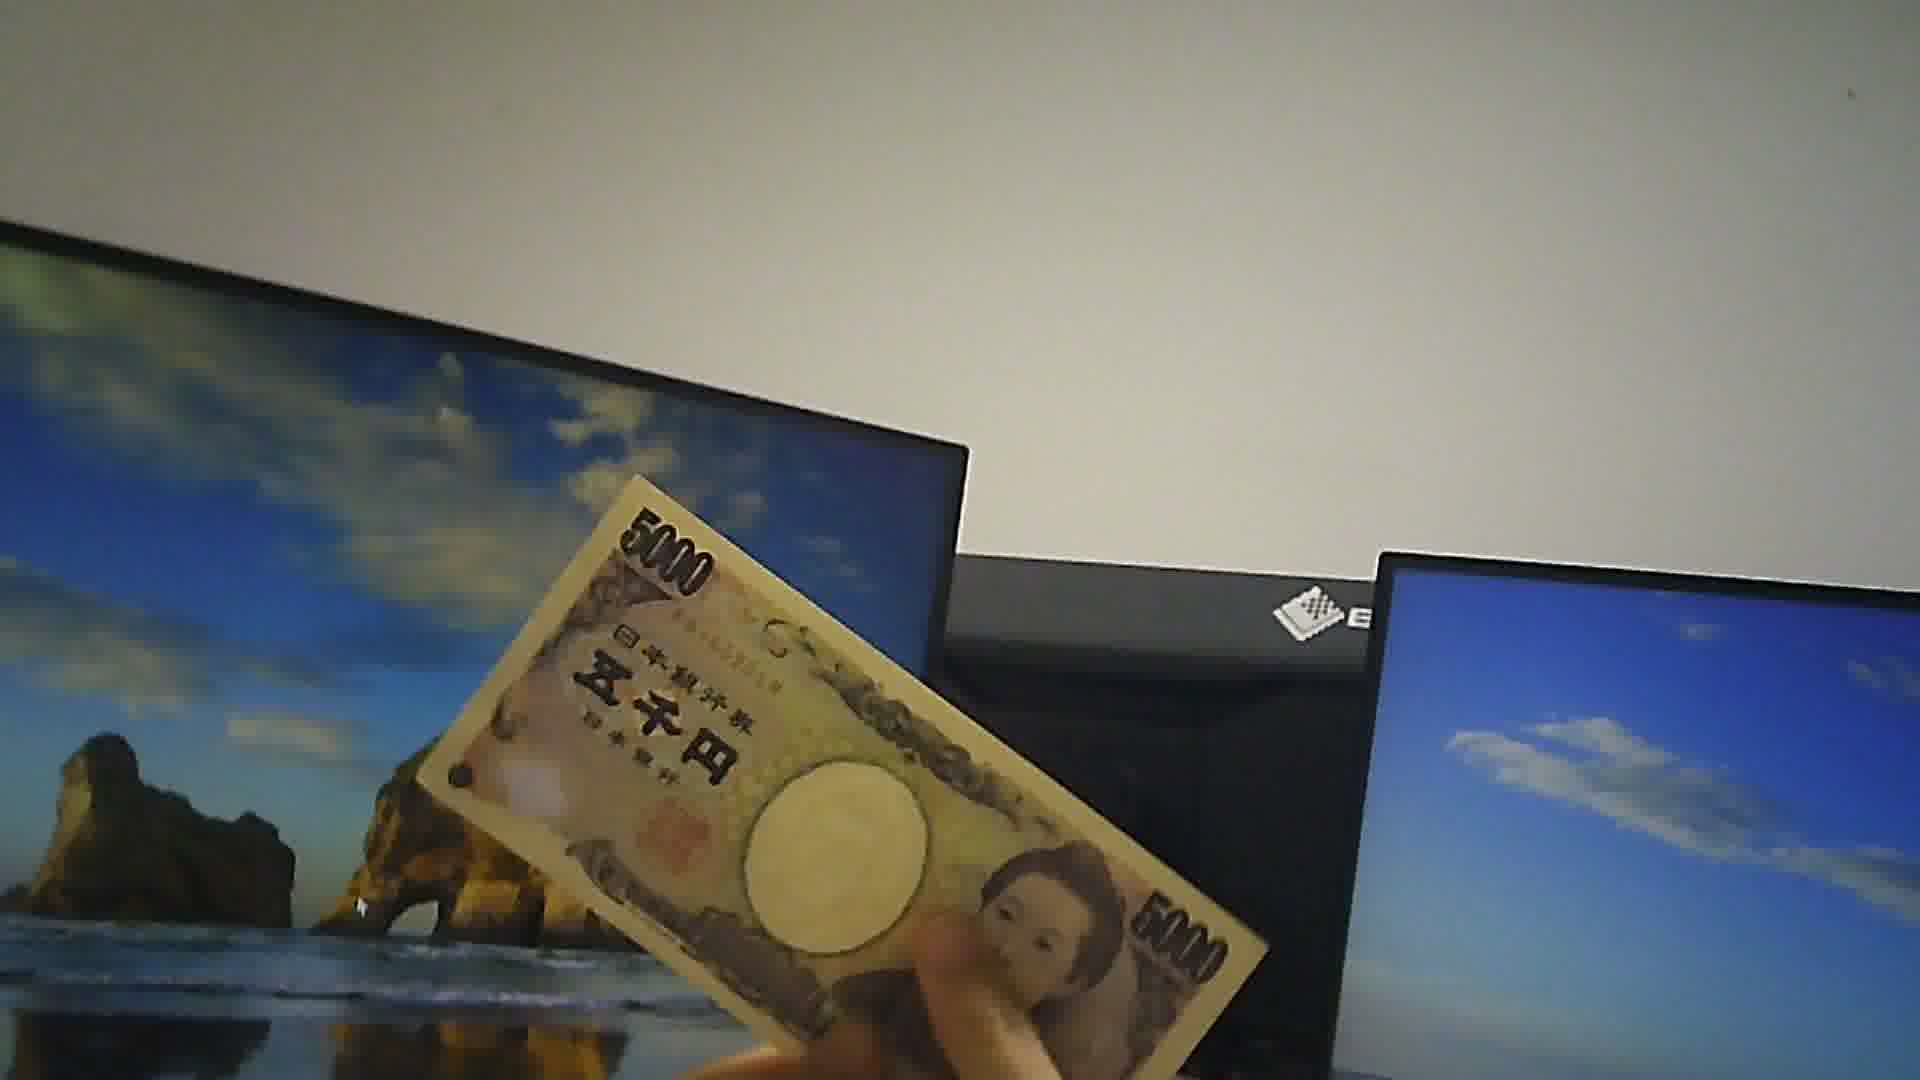5,000 Yen: (378, 488, 1247, 1056)
